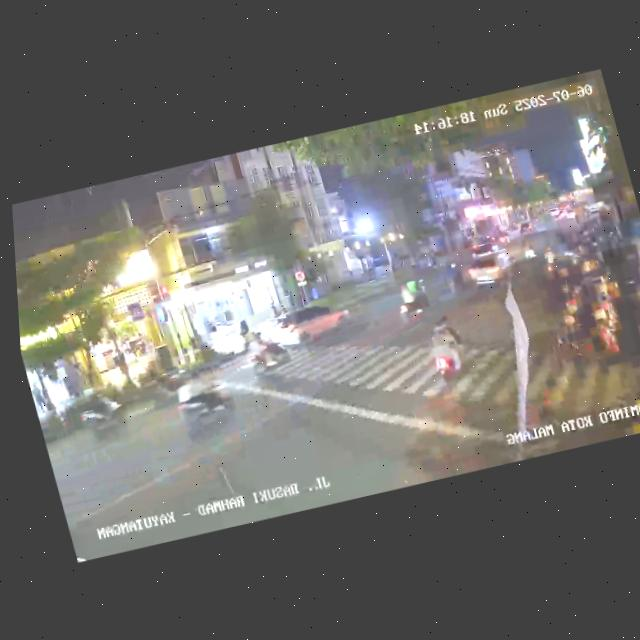car: (260, 294, 362, 355), (460, 246, 523, 295)
motorcycle: (168, 370, 246, 442), (72, 382, 130, 439), (424, 319, 471, 388), (242, 326, 294, 380), (390, 276, 436, 326), (539, 244, 562, 281), (520, 238, 540, 263)
person: (28, 376, 47, 416), (236, 318, 256, 352)
